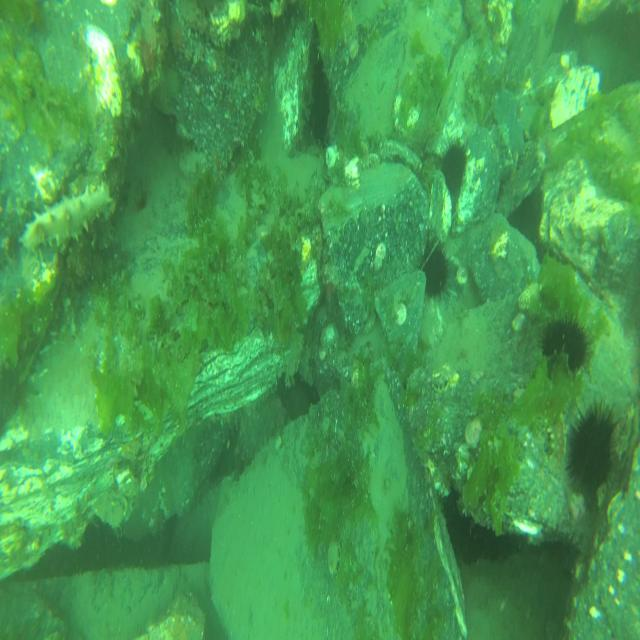echinus: (565, 393, 616, 507), (540, 312, 590, 376), (438, 129, 468, 201), (421, 237, 449, 301)
holothurian: (18, 177, 118, 257)
